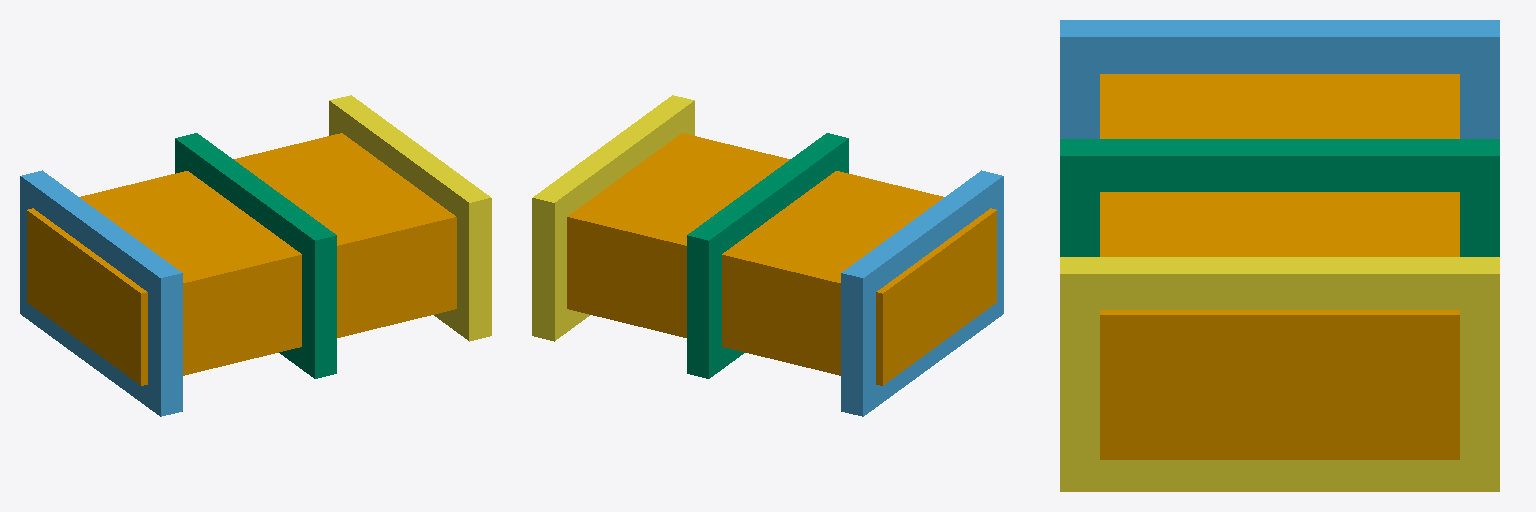
URDF robot description (debris011):
<?xml version="1.0" ?>
<robot name="debris011">

<link name="debris011">
<visual> <origin xyz="0 0 0" rpy="0 0 0" />
<geometry> <box size="0.78 0.45 0.20"/> </geometry>
</visual>
<collision> <origin xyz="0 0 0" rpy="0 0 0" />
<geometry> <box size="0.78 0.45 0.20"/> </geometry>
</collision>
<inertial> <origin xyz="0 0 0" rpy="0 0 0" />
<mass value="10.0" />
<inertia ixx="0.3803" ixy="0" ixz="0" iyy="0.3803" iyz="0" izz="0.3803" />
</inertial>
</link>
<gazebo reference="debris011"> <material>Gazebo/Tree</material> </gazebo>

<link name="debris0110">
<visual> <origin xyz="-0.35 0 0" rpy="0 0 0" />
<geometry> <box size="0.05 0.55 0.30"/> </geometry>
</visual>
<collision> <origin xyz="-0.35 0 0" rpy="0 0 0" />
<geometry> <box size="0.05 0.55 0.30"/> </geometry>
</collision>
<inertial> <origin xyz="0 0 0" rpy="0 0 0" />
<mass value="0.1" />
<inertia ixx="0.0100" ixy="0" ixz="0" iyy="0.0100" iyz="0" izz="0.0100" />
</inertial>
</link>
<gazebo reference="debris0110"> <material>Gazebo/Tree</material> </gazebo>

<joint name="debris0110joint" type="fixed">
<parent link="debris011"/>
<child link="debris0110"/>
<origin xyz="0 0 0" rpy="0 0 0" />
</joint>

<link name="debris0111">
<visual> <origin xyz="0.00 0 0" rpy="0 0 0" />
<geometry> <box size="0.05 0.55 0.30"/> </geometry>
</visual>
<collision> <origin xyz="0.00 0 0" rpy="0 0 0" />
<geometry> <box size="0.05 0.55 0.30"/> </geometry>
</collision>
<inertial> <origin xyz="0 0 0" rpy="0 0 0" />
<mass value="0.1" />
<inertia ixx="0.0100" ixy="0" ixz="0" iyy="0.0100" iyz="0" izz="0.0100" />
</inertial>
</link>
<gazebo reference="debris0111"> <material>Gazebo/Tree</material> </gazebo>

<joint name="debris0111joint" type="fixed">
<parent link="debris011"/>
<child link="debris0111"/>
<origin xyz="0 0 0" rpy="0 0 0" />
</joint>

<link name="debris0112">
<visual> <origin xyz="0.35 0 0" rpy="0 0 0" />
<geometry> <box size="0.05 0.55 0.30"/> </geometry>
</visual>
<collision> <origin xyz="0.35 0 0" rpy="0 0 0" />
<geometry> <box size="0.05 0.55 0.30"/> </geometry>
</collision>
<inertial> <origin xyz="0 0 0" rpy="0 0 0" />
<mass value="0.1" />
<inertia ixx="0.0100" ixy="0" ixz="0" iyy="0.0100" iyz="0" izz="0.0100" />
</inertial>
</link>
<gazebo reference="debris0112"> <material>Gazebo/Tree</material> </gazebo>

<joint name="debris0112joint" type="fixed">
<parent link="debris011"/>
<child link="debris0112"/>
<origin xyz="0 0 0" rpy="0 0 0" />
</joint>

</robot>

--- Facts derived from the render (not from the file) ---
3 views of the same robot in one strip: view 1: azimuth 30°, elevation 25°; view 2: azimuth 150°, elevation 25°; view 3: azimuth 270°, elevation 25° (orthographic).
Robot: debris011 — 4 links, 3 joints (3 fixed); root link debris011; default pose: all joints at 0.
Links seen in each view (by area): view 1: debris011, debris0110, debris0112, debris0111; view 2: debris011, debris0110, debris0112, debris0111; view 3: debris011, debris0112, debris0110, debris0111.
Link boxes in pixels (left/top/right/bottom): debris011: left=27, top=133, right=456, bottom=385; debris0110: left=20, top=170, right=182, bottom=416; debris0112: left=329, top=95, right=491, bottom=341; debris0111: left=175, top=133, right=336, bottom=378; debris011: left=567, top=133, right=996, bottom=385; debris0110: left=841, top=170, right=1003, bottom=416; debris0112: left=532, top=95, right=694, bottom=341; debris0111: left=687, top=133, right=848, bottom=378; debris011: left=1100, top=74, right=1459, bottom=459; debris0112: left=1060, top=257, right=1499, bottom=491; debris0110: left=1060, top=20, right=1499, bottom=138; debris0111: left=1060, top=139, right=1499, bottom=256.
Bounding box of the posed robot: 0.78 × 0.55 × 0.3 m (x, y, z).
Geometry: primitives only (box / cylinder / sphere), no mesh files.
